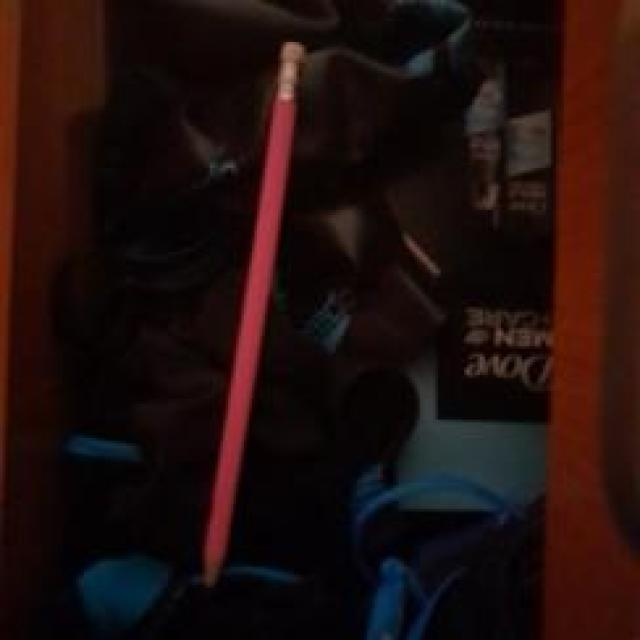pencil: (202, 42, 307, 588)
